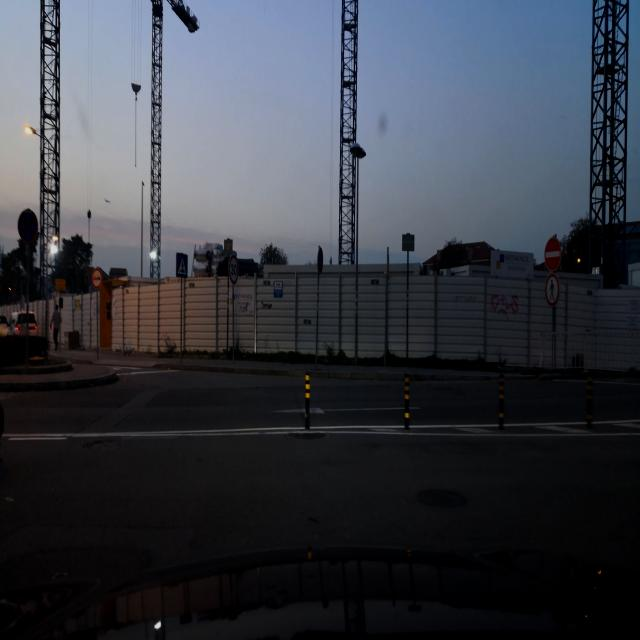car: (10, 310, 38, 336), (0, 311, 10, 336)
